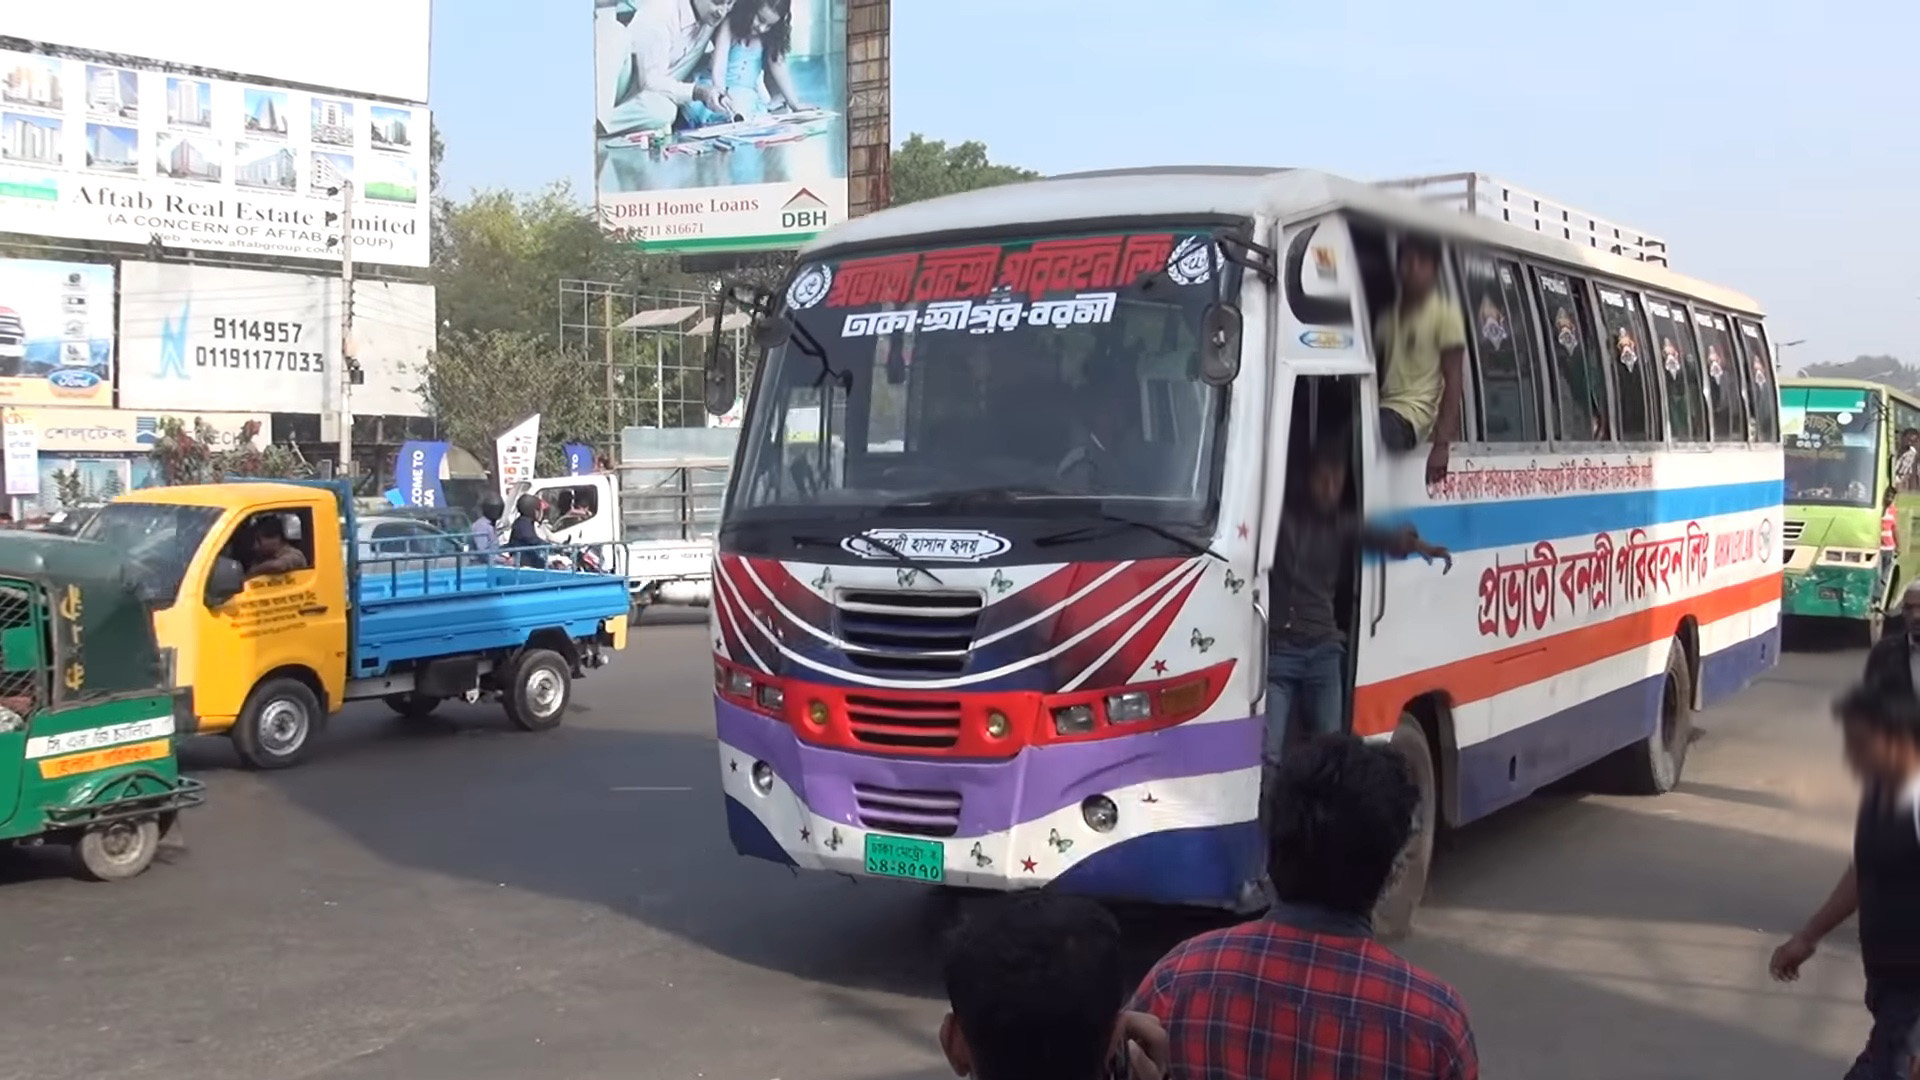bus: (708, 142, 1779, 938), (1779, 359, 1916, 659)
cng: (8, 500, 187, 872)
truck: (104, 467, 629, 731)
